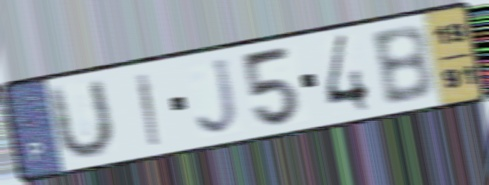4: (320, 31, 375, 116)
5: (239, 41, 303, 130)
B: (367, 22, 437, 109)
I: (133, 69, 162, 149)
J: (194, 54, 243, 138)
U: (47, 76, 117, 165)
